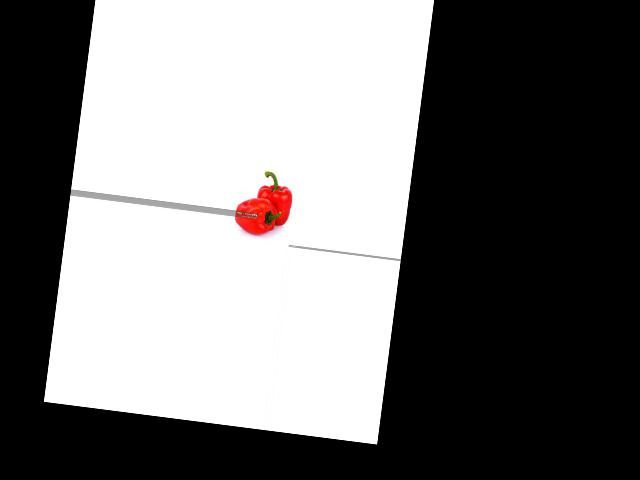bell_pepper: (228, 191, 282, 236)
